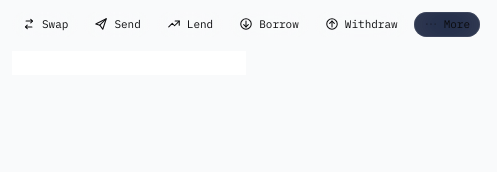
ActionRail › prefills Send with the correct verb, focuses input, and does not submit
This screenshot has width=497, height=172.
Click the button "Send": (118, 25) 84,12 -> 151,37
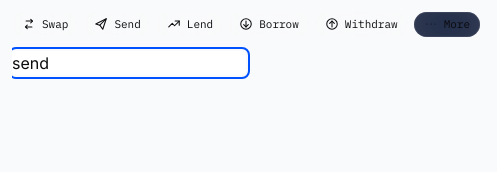
Expected: the field named "Intent" holds "send ", 12,51 -> 246,75
